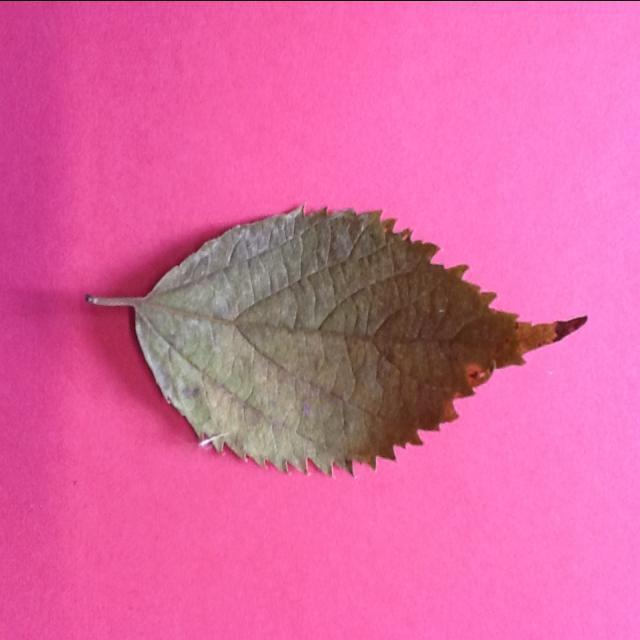foliage: (84, 206, 590, 482)
